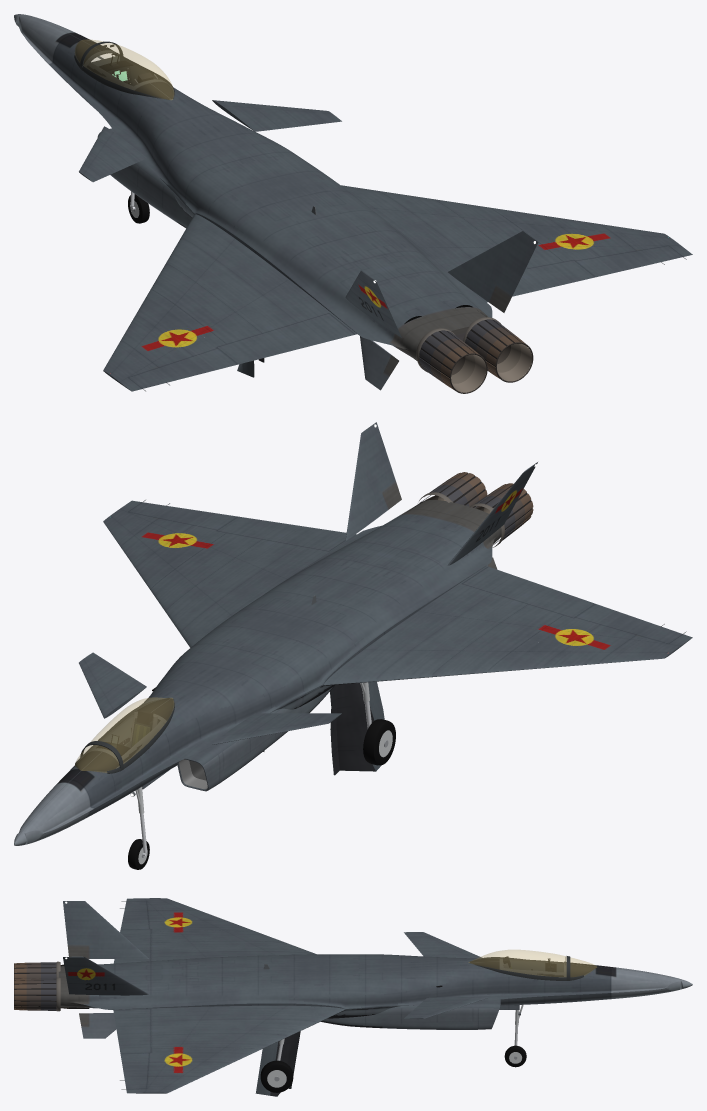
3 renders of one model, top to bottom at view 1: azimuth 30°, elevation 25°; view 2: azimuth 150°, elevation 25°; view 3: azimuth 270°, elevation 25°, orthographic. The views are drawn at different scales.
Visible parts, largest first — view 1: fuselage, nozzle, rudder_R, canopy, flap_L, stab_R, stab_L, ail_L, ail_R, flap_R, cockpit, rudder_L; view 2: fuselage, gear_main_L, canopy, rudder_R, nozzle, flap_L, flap_R, stab_R, stab_L, cockpit, ail_L, rudder_L (+2 smaller); view 3: fuselage, rudder_L, nozzle, canopy, rudder_R, gear_main_R, flap_R, stab_L, cockpit, stab_R, ail_R, ail_L (+2 smaller).
Part boxes in pixels (x1,y1,x2,y2): fuselage: (14,14,692,391); nozzle: (404,305,533,393); rudder_R: (448,231,538,312); canopy: (75,39,173,99); flap_L: (217,313,354,364); stab_R: (212,100,341,131); stab_L: (79,126,146,182); ail_L: (128,348,237,388); ail_R: (575,246,682,277); flap_R: (512,260,594,296); cockpit: (83,44,167,90); rudder_L: (345,270,401,337); fuselage: (14,500,692,845); gear_main_L: (330,681,395,775); canopy: (75,697,173,772); rudder_R: (345,422,401,540); nozzle: (412,472,533,547); flap_L: (462,566,595,617); flap_R: (217,516,346,551); stab_R: (79,652,146,718); stab_L: (212,713,341,744); cockpit: (85,710,166,763); ail_L: (575,604,682,643); rudder_L: (447,462,537,565); fuselage: (58,898,692,1093); rudder_L: (63,901,148,958); nozzle: (14,961,89,1011); canopy: (468,950,596,976); rudder_R: (63,956,148,995); gear_main_R: (255,1031,300,1096); flap_R: (113,1009,151,1053); stab_L: (404,932,481,958); cockpit: (499,956,566,977); stab_R: (404,996,487,1019); ail_R: (120,1053,149,1089); ail_L: (120,901,149,929).
Size of the model in its own units: 13.5 by 4.76 by 19.91.
Materials: 9 (1 with a texture image).
